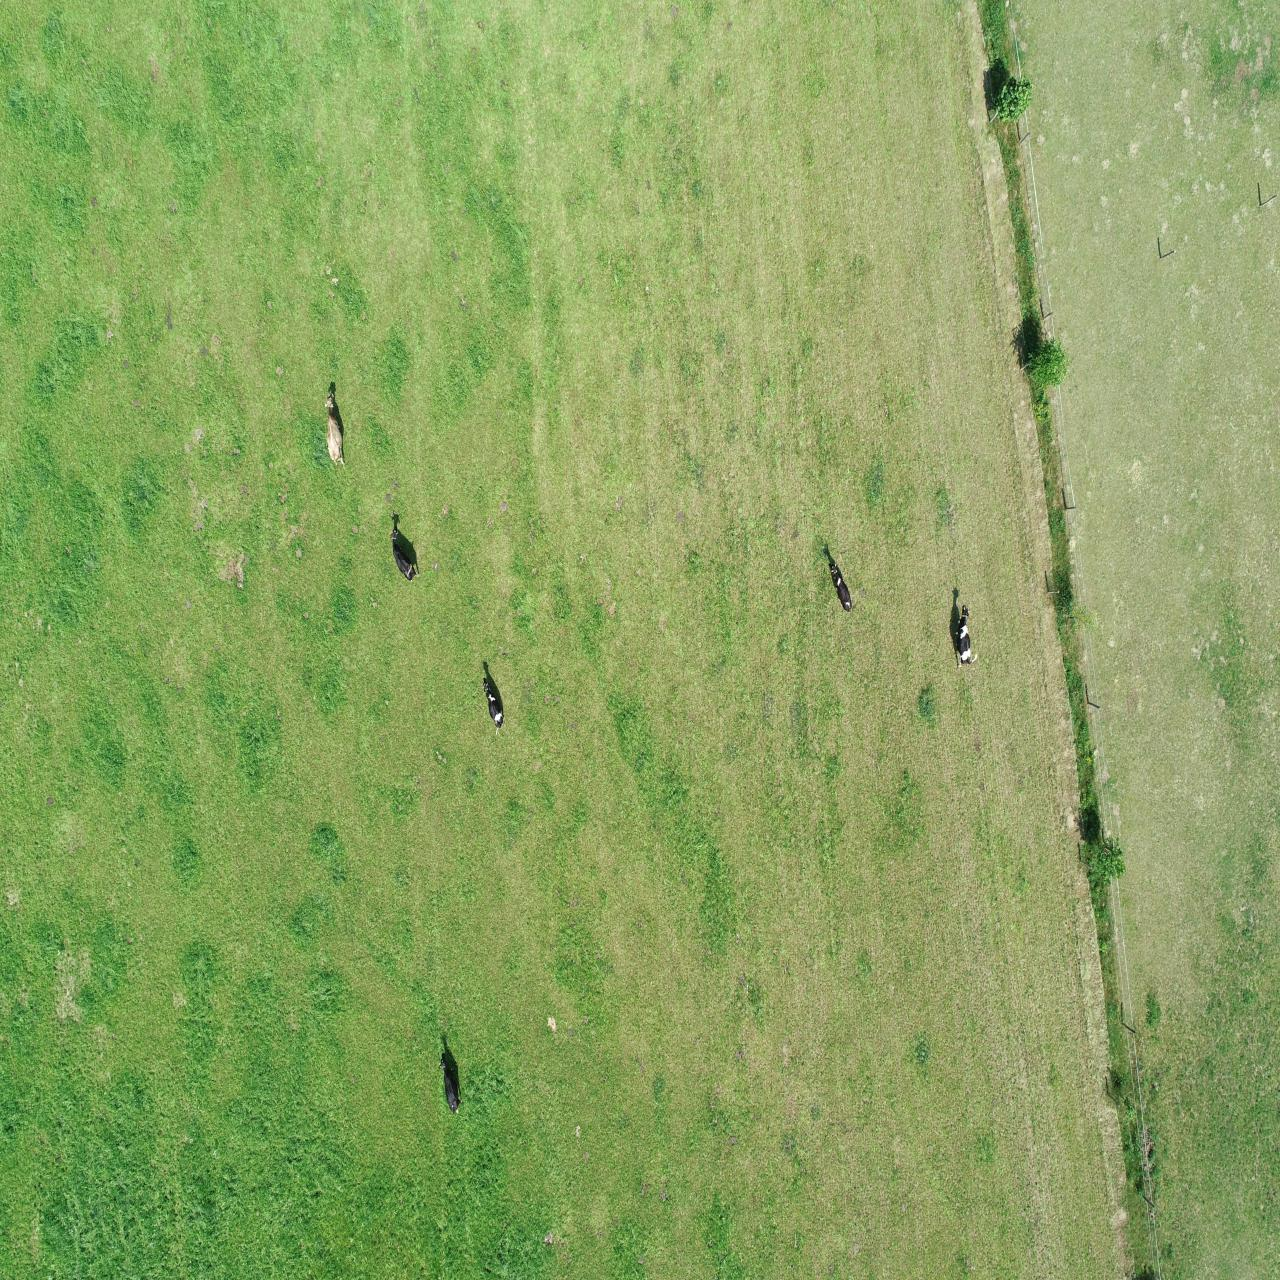cow: (384, 509, 421, 585), (320, 381, 348, 469), (477, 669, 509, 734), (951, 602, 981, 669), (438, 1051, 465, 1115), (825, 558, 853, 618)
